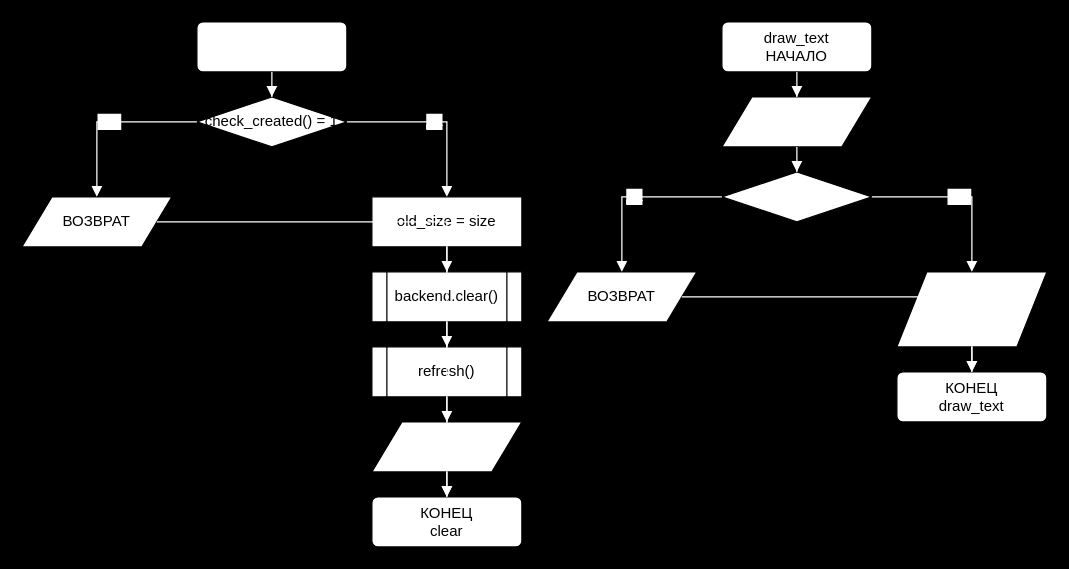
The diagram is 1069 pixels wide and 569 high, and some of its shapes have lost their labels. The box of each missing label's shape, as (x1, y1, x2, y2) in pixels:
clear НАЧАЛО: (196, 21, 347, 72)
txt: (721, 96, 872, 147)
txt пустой: (721, 171, 872, 222)
ВЫВОД txt на Canvas: (896, 271, 1047, 347)
ВЫВОД в log: (371, 421, 522, 472)
